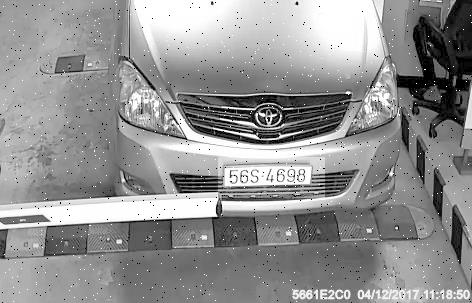License-plate: (219, 158, 326, 199)
